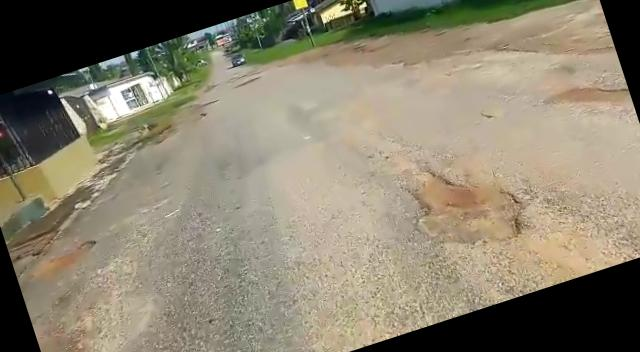pothole: (390, 140, 540, 272), (540, 66, 636, 140), (29, 238, 104, 284)
